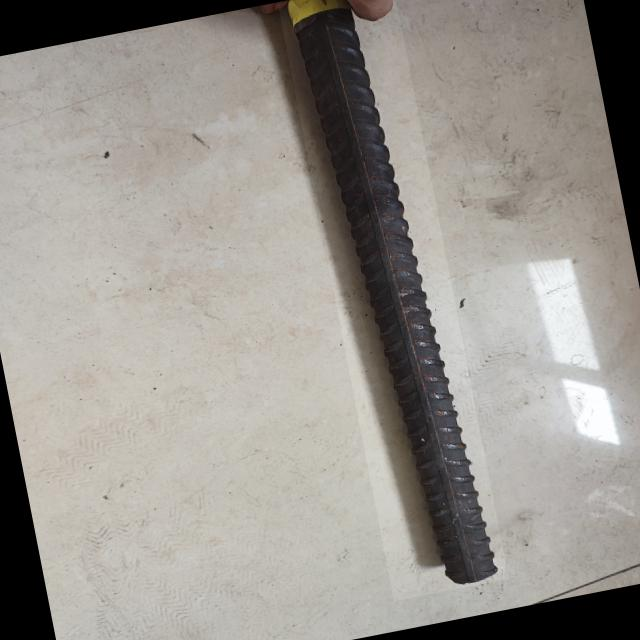ribbed bar: (278, 0, 509, 601)
